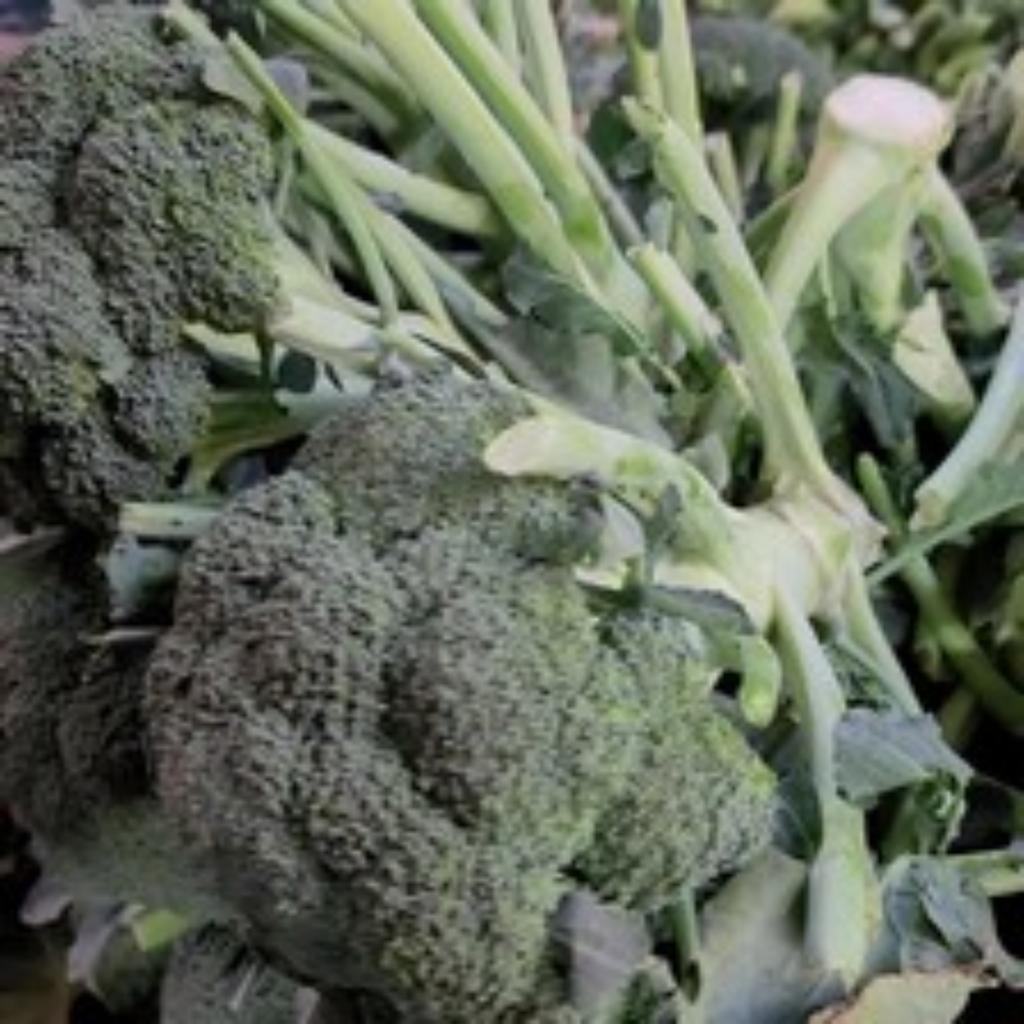Broccoli: (148, 374, 774, 1024), (150, 374, 774, 1024), (0, 22, 274, 529), (0, 26, 274, 531)
